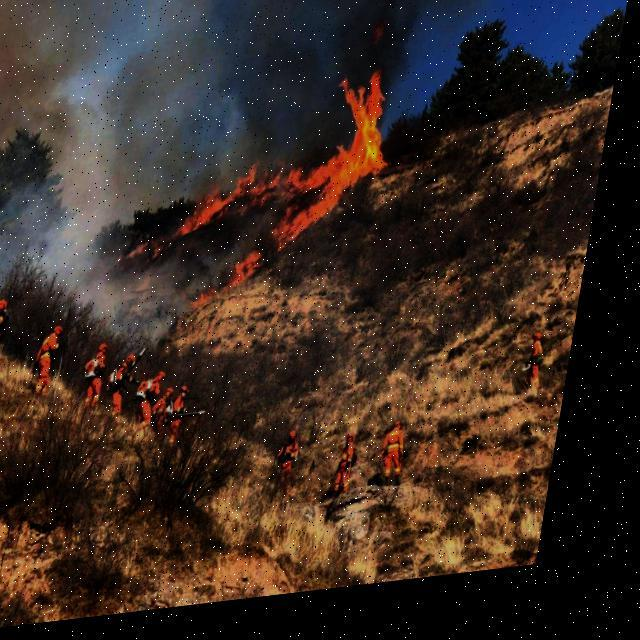Fire: (134, 67, 410, 331)
